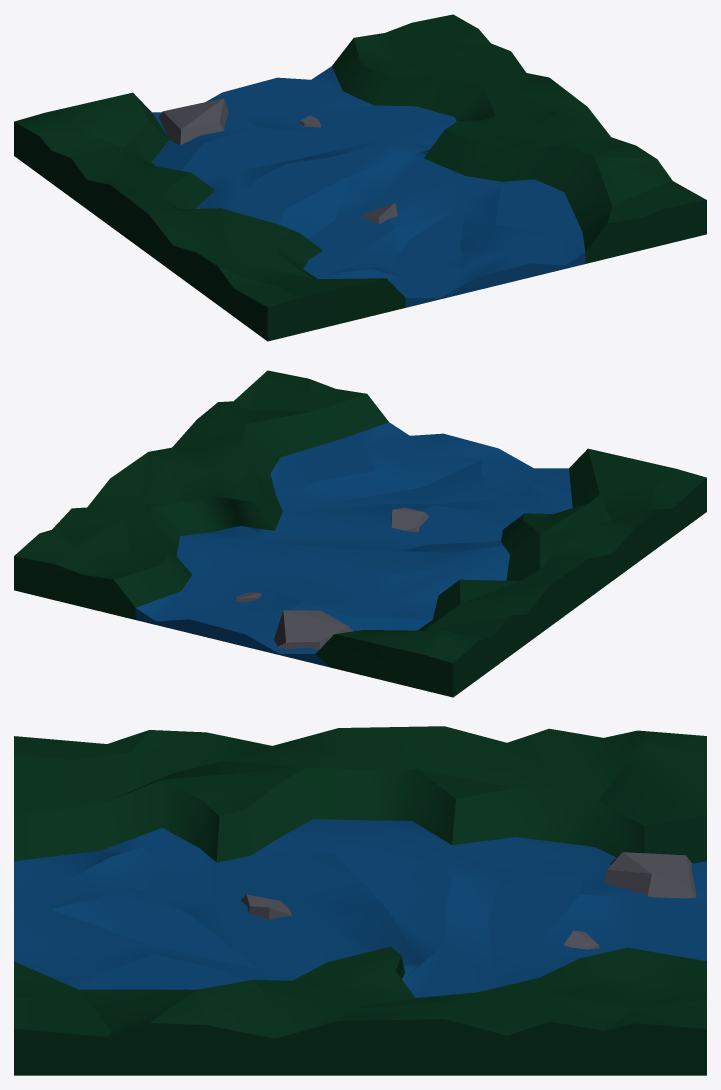
The model's file is Water_River_V.fbx.
3 views of the same model, one above another, from view 1: azimuth 30°, elevation 25°; view 2: azimuth 150°, elevation 25°; view 3: azimuth 270°, elevation 25° (orthographic). The views are drawn at different scales.
Visible parts, largest first — view 1: Water_River_V; view 2: Water_River_V; view 3: Water_River_V.
Part boxes in pixels (x1,y1,x2,y2): Water_River_V: [14, 14, 706, 341]; Water_River_V: [14, 370, 706, 697]; Water_River_V: [14, 726, 706, 1075].
Size of the model in its own units: 147 by 13.97 by 147.
